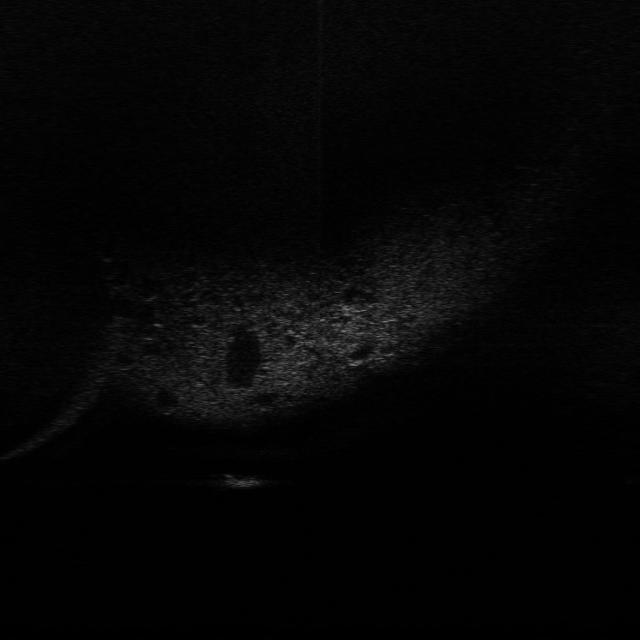cube: (213, 468, 272, 492)
